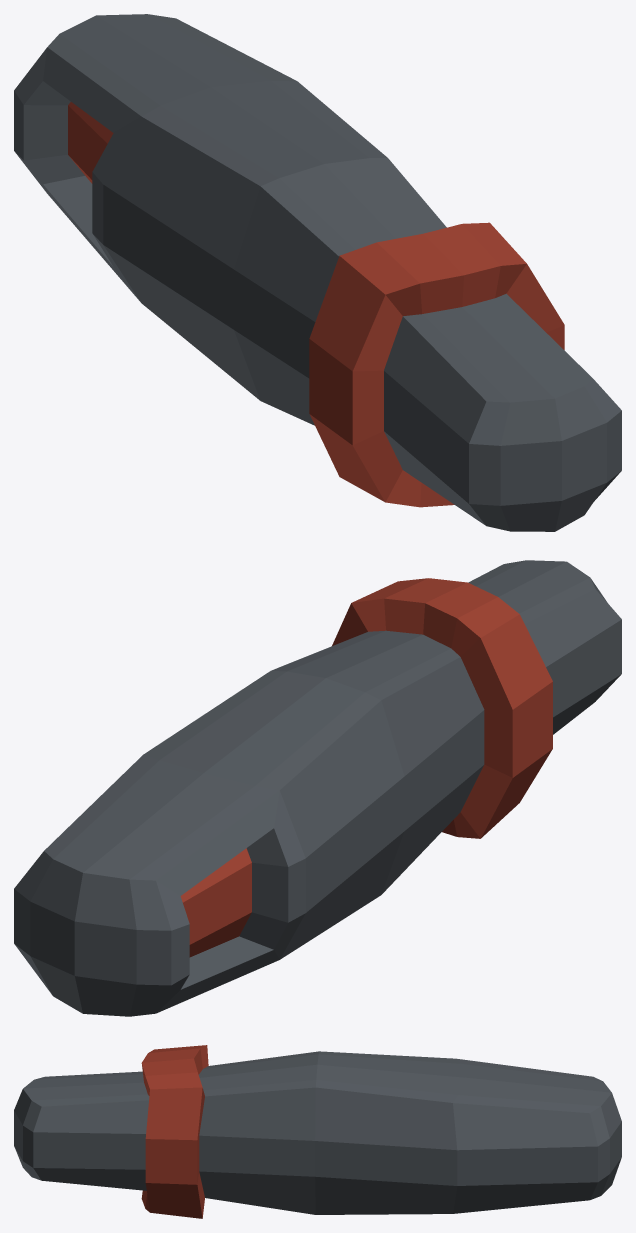
File: Mothership_02_Detail_7_Red.fbx
The picture shows the model from 3 angles, top to bottom: view 1: azimuth 30°, elevation 25°; view 2: azimuth 150°, elevation 25°; view 3: azimuth 270°, elevation 25°; orthographic projection. The views are drawn at different scales.
Parts seen in each view (by area): view 1: Mothership_02_Detail_7_Red; view 2: Mothership_02_Detail_7_Red; view 3: Mothership_02_Detail_7_Red.
Boxes of the visible parts, x1=… form: Mothership_02_Detail_7_Red: x1=14, y1=14, x2=621, y2=531; Mothership_02_Detail_7_Red: x1=14, y1=560, x2=621, y2=1016; Mothership_02_Detail_7_Red: x1=14, y1=1045, x2=621, y2=1218.
Bounding box in the file's own units: 198 × 202 × 760.
Materials: 1 (1 with a texture image).
